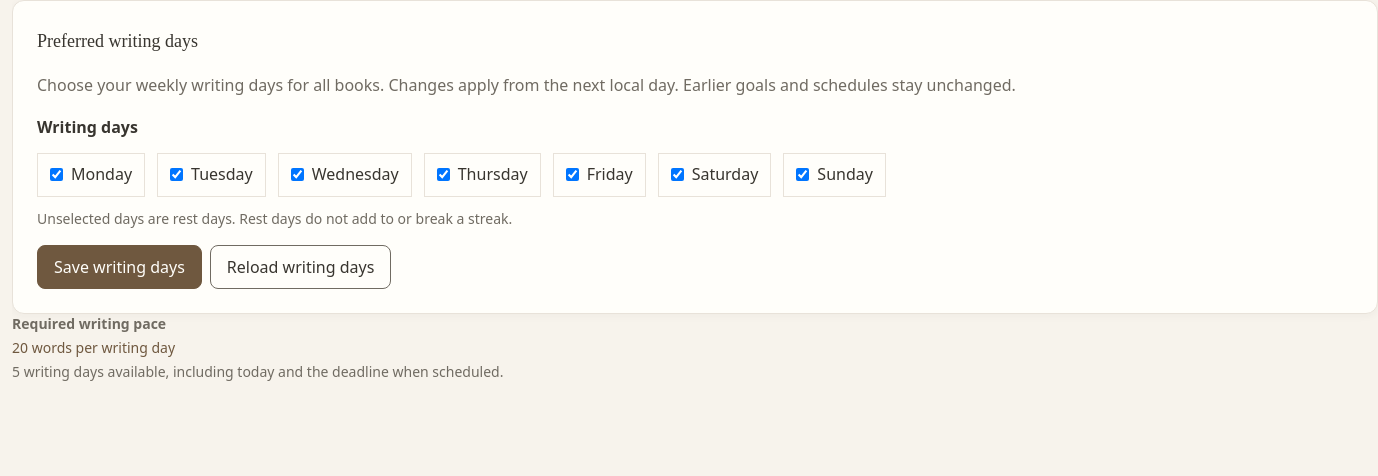
Test: the default every-day schedule can be explicitly saved without toggling a day
Click the button "Save writing days".
click(119, 267)  # box [37,245,202,289]
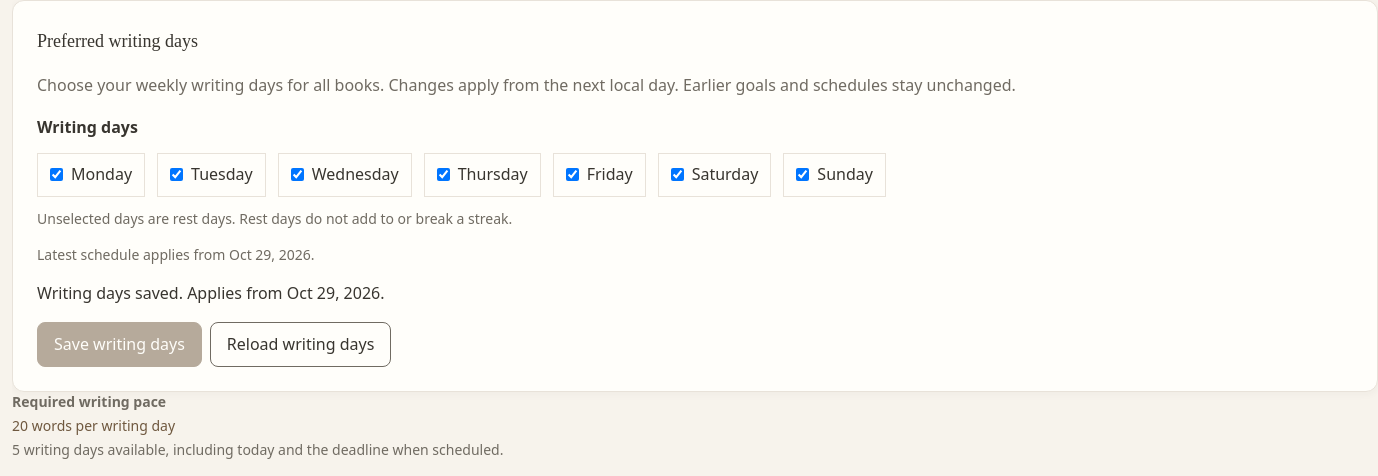
Expected: the text "Writing days saved. Applies from Oct 29, 2026." is shown, [37,282,384,304]
